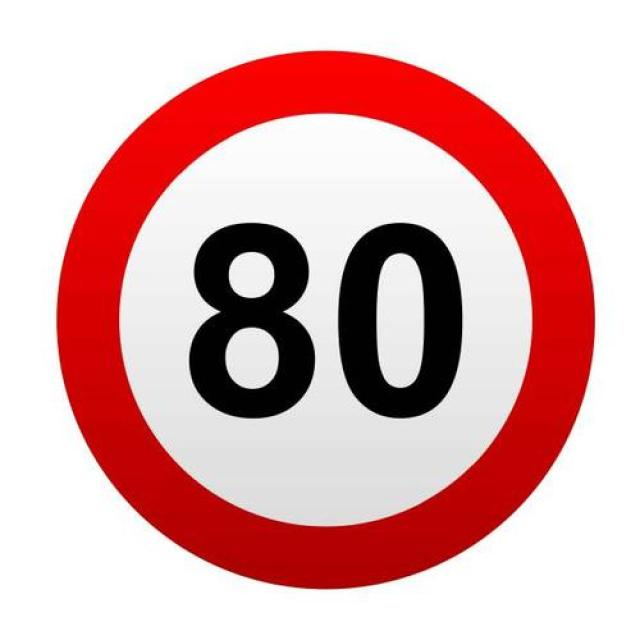speed limit 80: (53, 49, 596, 590)
